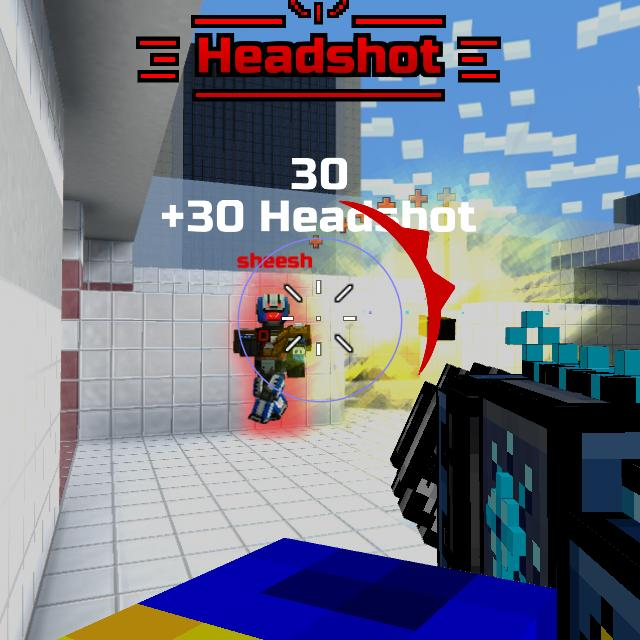Enemy: (230, 293, 313, 426)
